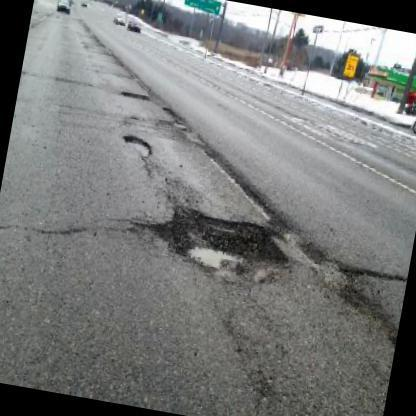pothole: (163, 204, 295, 276), (124, 134, 154, 158)
